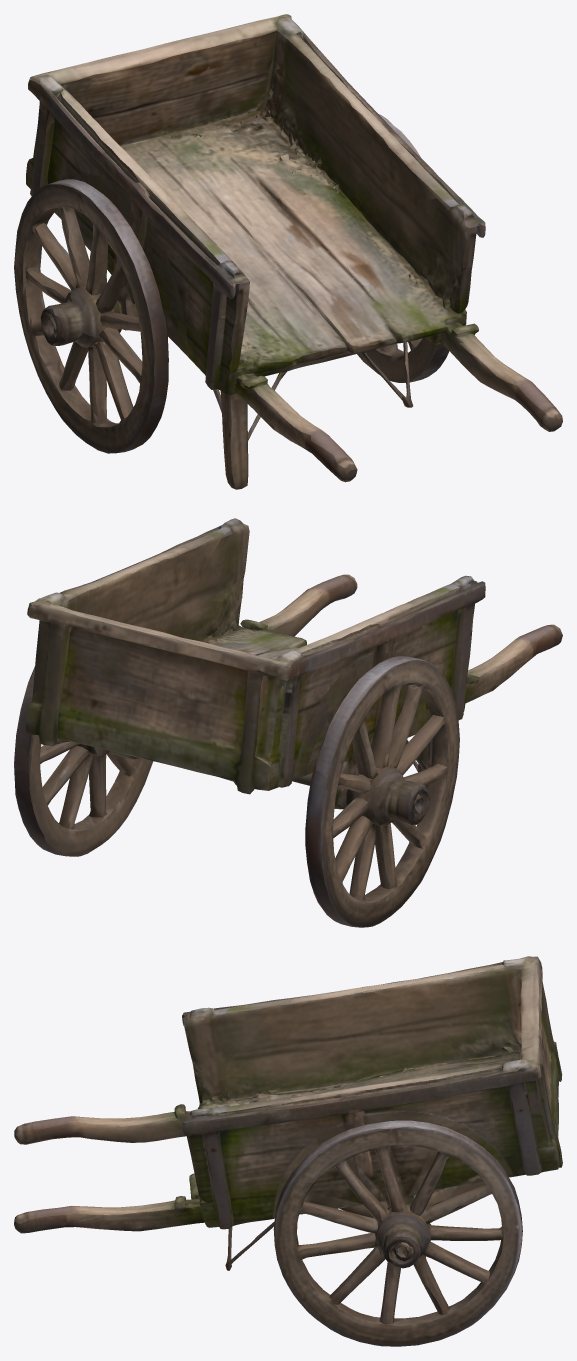
The model's file is handcart.glb.
The picture shows the model from 3 angles, top to bottom: view 1: azimuth 30°, elevation 25°; view 2: azimuth 150°, elevation 25°; view 3: azimuth 270°, elevation 25°; orthographic projection. The views are drawn at different scales.
Parts seen in each view (by area): view 1: geometry_0; view 2: geometry_0; view 3: geometry_0.
Boxes of the visible parts, left/top/right/bottom form: geometry_0: left=14, top=14, right=562, bottom=489; geometry_0: left=14, top=518, right=562, bottom=927; geometry_0: left=14, top=956, right=562, bottom=1346.
Size of the model in its own units: 1.2 by 0.9421 by 1.72.
Materials: 1 (1 with a texture image).
